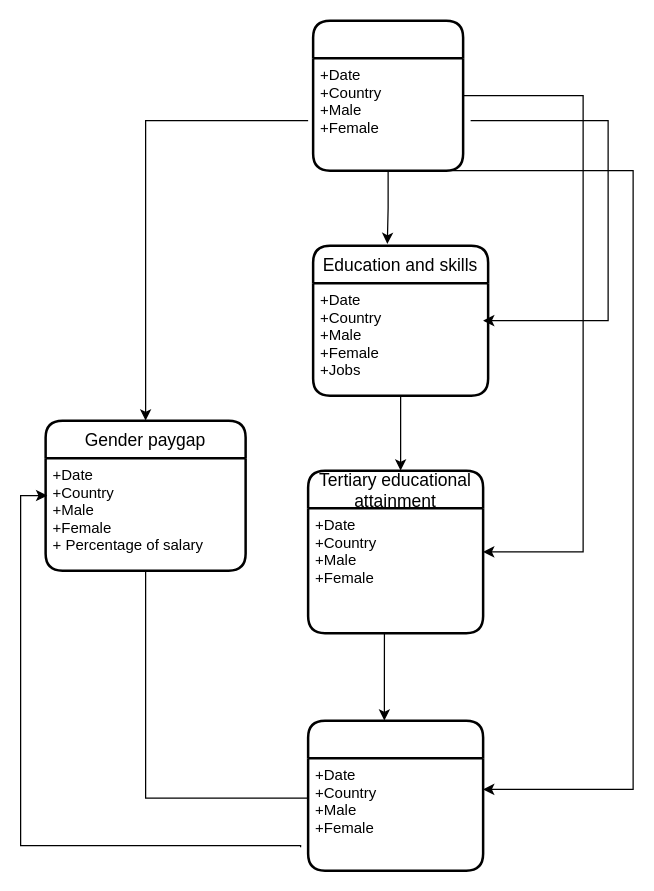
Some shapes in this 654 by 891 pixel diagram are drawn without their labels. Each missing label, with the box of its shape:
EUROSTAT: (311, 19, 464, 171)
ICT specialists by sex: (306, 719, 484, 871)
